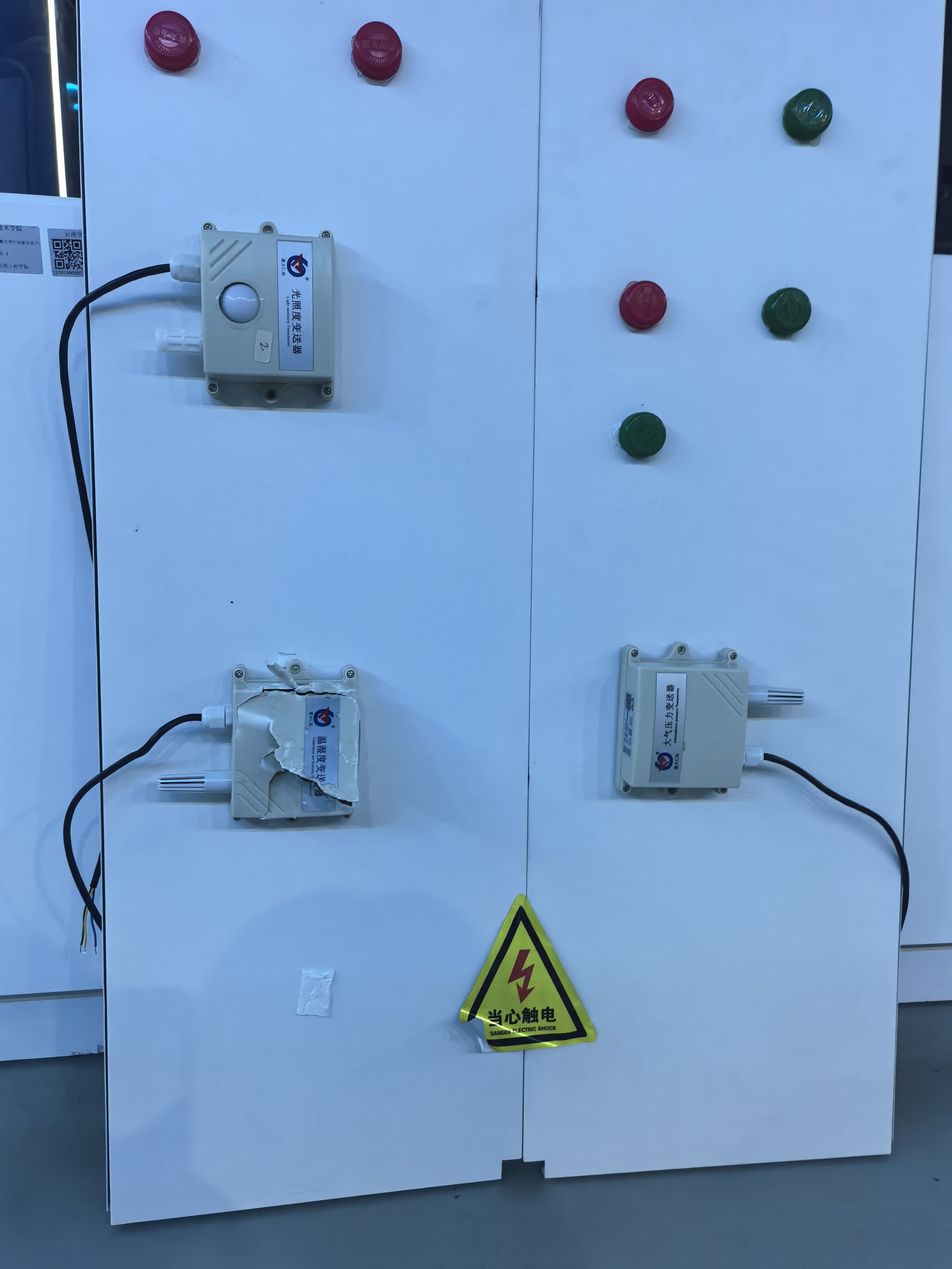red_warning: (589, 268, 710, 349), (137, 1, 242, 84), (338, 8, 426, 90), (608, 58, 688, 144)
sensor_damage: (140, 634, 414, 846)
